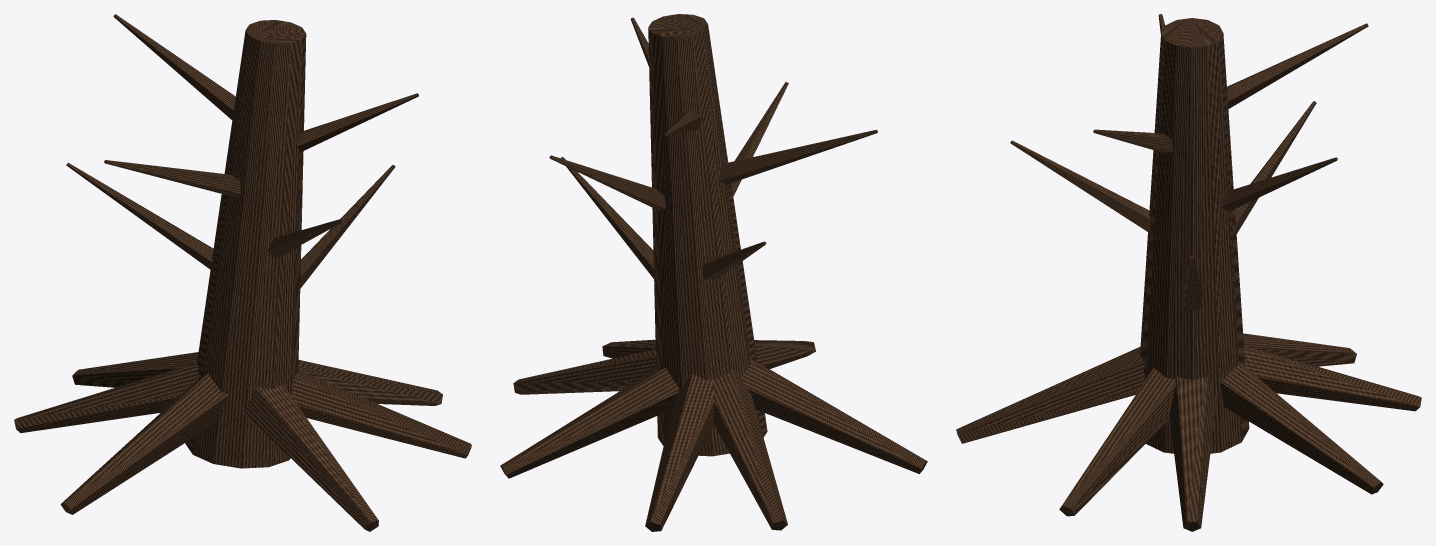
Rendered from dead_tree_01.fbx.
3 renders of one model, left to right at view 1: azimuth 30°, elevation 25°; view 2: azimuth 150°, elevation 25°; view 3: azimuth 270°, elevation 25°, orthographic. The views are drawn at different scales.
Parts seen in each view (by area): view 1: dead_tree_01_LOD0; view 2: dead_tree_01_LOD0; view 3: dead_tree_01_LOD0.
Part boxes in pixels (x1=…): dead_tree_01_LOD0: x1=14, y1=14, x2=471, y2=531; dead_tree_01_LOD0: x1=500, y1=14, x2=927, y2=531; dead_tree_01_LOD0: x1=956, y1=14, x2=1421, y2=531.
Size of what is drawn, in the model's own units: 1 by 1 by 1.
